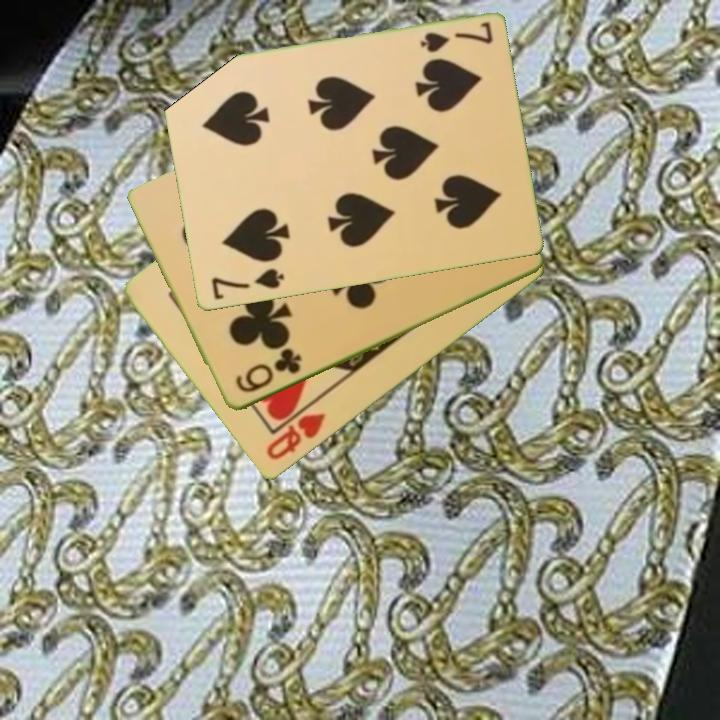6c: (231, 346, 304, 397)
7s: (416, 18, 496, 56), (208, 265, 287, 303)
Qh: (262, 409, 330, 464)
